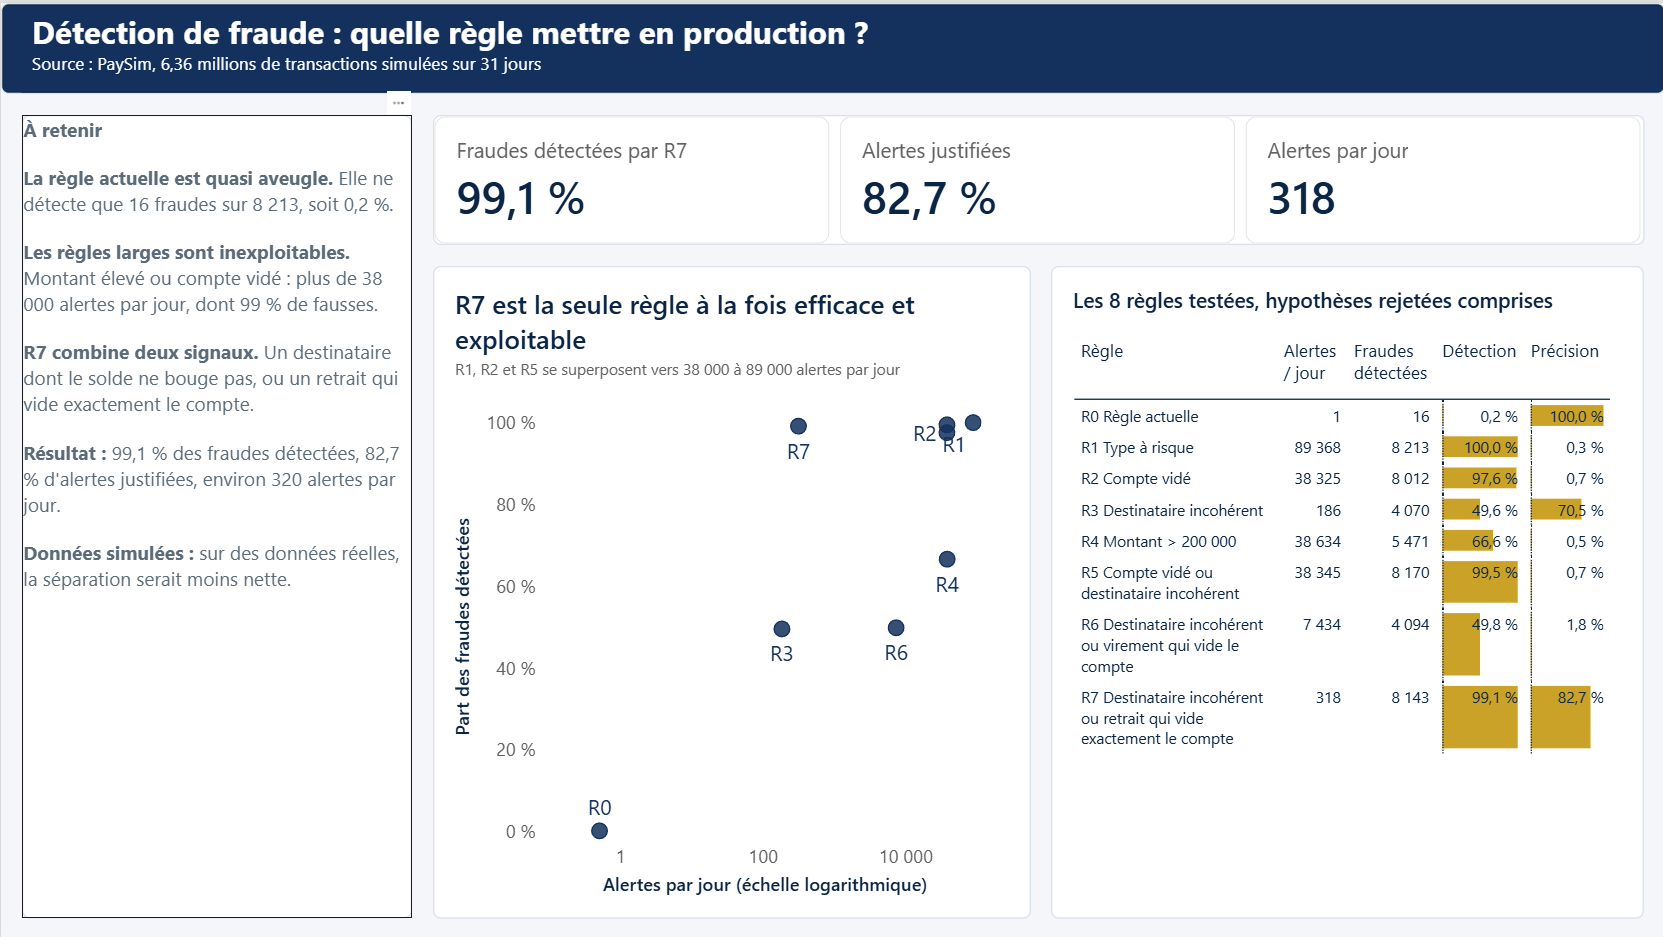

This screenshot's page, from the dashboard's own definition file:
{"tool":"powerbi","page":{"name":"Comparaison des règles","canvas":[1280,720],"ordinal":0},"visuals":[{"type":"shape","box":[0,0,1280,70],"z":0},{"type":"scatterChart","title":"R7 est la seule règle à la fois efficace et exploitable","fields":{"Category":["regles.code"],"X":["Sum(regles.alertes_par_jour)"],"Y":["Sum(regles.taux_detection)"]},"box":[332,202,460,502],"z":2},{"type":"cardVisual","fields":{"Data":["alertes_R7.Taux de détection","alertes_R7.Précision","alertes_R7.Alertes par jour"]},"box":[332,86,932,100],"z":3},{"type":"tableEx","title":"Les 8 règles testées, hypothèses rejetées comprises","fields":{"Values":["regles.regle","Sum(regles.alertes_par_jour)","Sum(regles.fraudes_detectees)","Sum(regles.taux_detection)","Sum(regles.precision)"]},"box":[808,202,456,502],"z":4},{"type":"textbox","box":[16,86,300,618],"z":5},{"type":"textbox","box":[24,5,900,60],"z":6}]}

Visuals, with their boxes in screenshot pixels (x1, y1, x2, y2), scaled from the page's 1280x720 canvas onto the 1663x937 screenshot:
shape: region(0, 0, 1662, 91)
"R7 est la seule règle à la fois efficace et exploitable" scatterChart: region(431, 263, 1029, 916)
cardVisual - alertes_R7.Taux de détection x alertes_R7.Précision: region(431, 112, 1642, 242)
"Les 8 règles testées, hypothèses rejetées comprises" tableEx: region(1050, 263, 1642, 916)
textbox: region(21, 112, 411, 916)
textbox: region(31, 7, 1200, 85)
